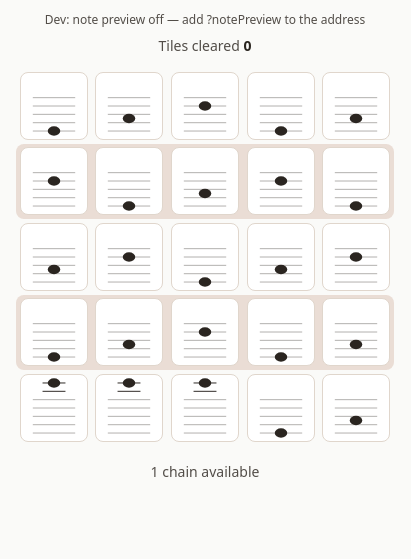
ceiling › tapping a row of 12s clears it and adds 3 to the score
The image size is (411, 559).
Click the 1st button named "note 12" at (54, 408), box 20,374 -> 88,442
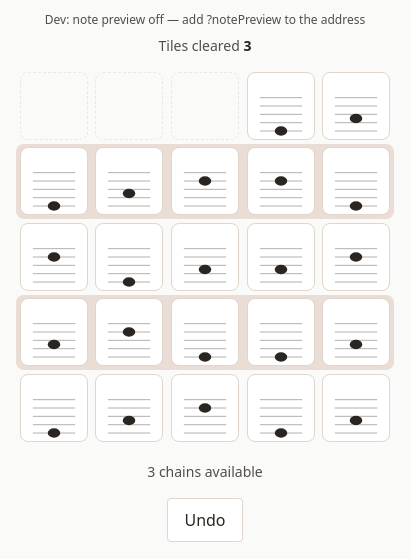
Now the text "Tiles cleared" reads "Tiles cleared 3", box 158,36 -> 252,55
